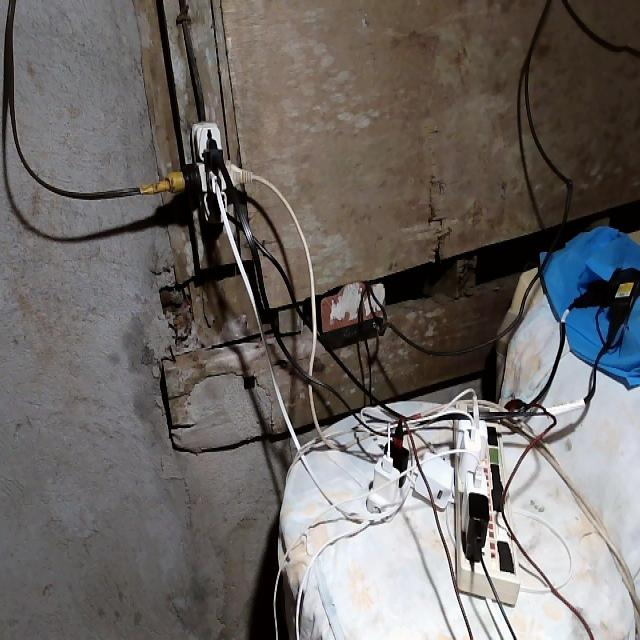-: (167, 117, 245, 223)
